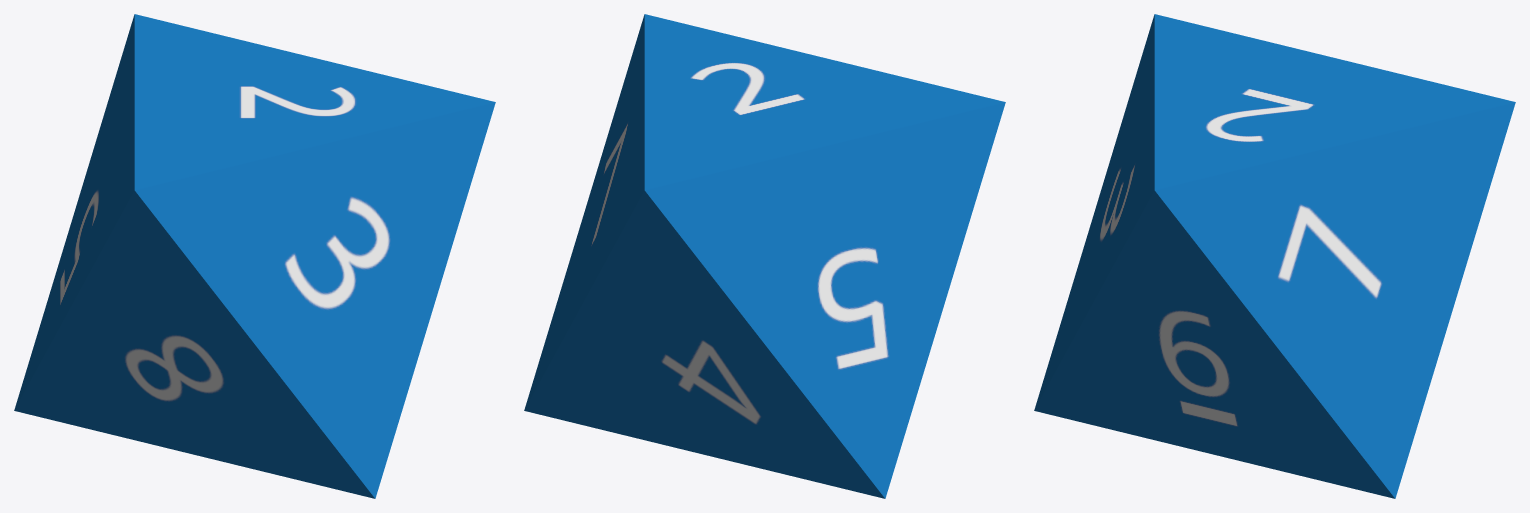
The picture shows the model from 3 angles, left to right: view 1: azimuth 30°, elevation 25°; view 2: azimuth 150°, elevation 25°; view 3: azimuth 270°, elevation 25°; orthographic projection.
Visible parts, largest first — view 1: d8; view 2: d8; view 3: d8.
Boxes of the visible parts, box(x1,y1,x2,y2) form: d8: box(14, 14, 495, 498); d8: box(524, 14, 1005, 498); d8: box(1034, 14, 1515, 498).
Bounding box in the file's own units: 20.09 × 16.4 × 23.19.
Materials: 1 (1 with a texture image).
